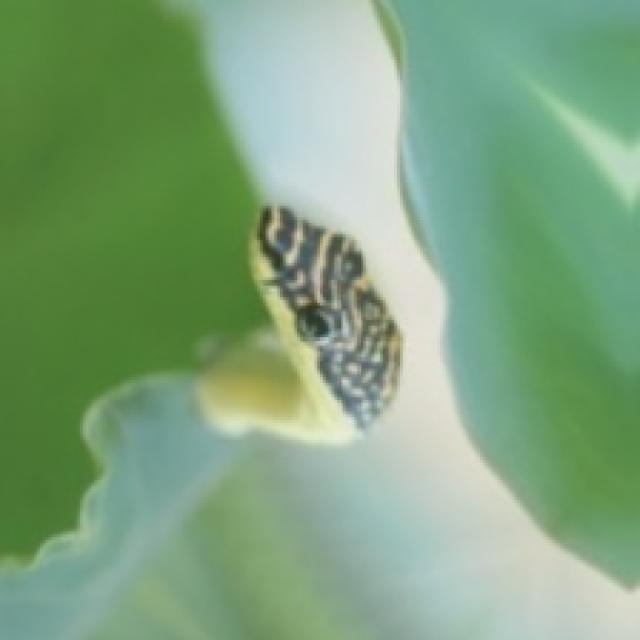paradise tree snake: (251, 206, 400, 426)
